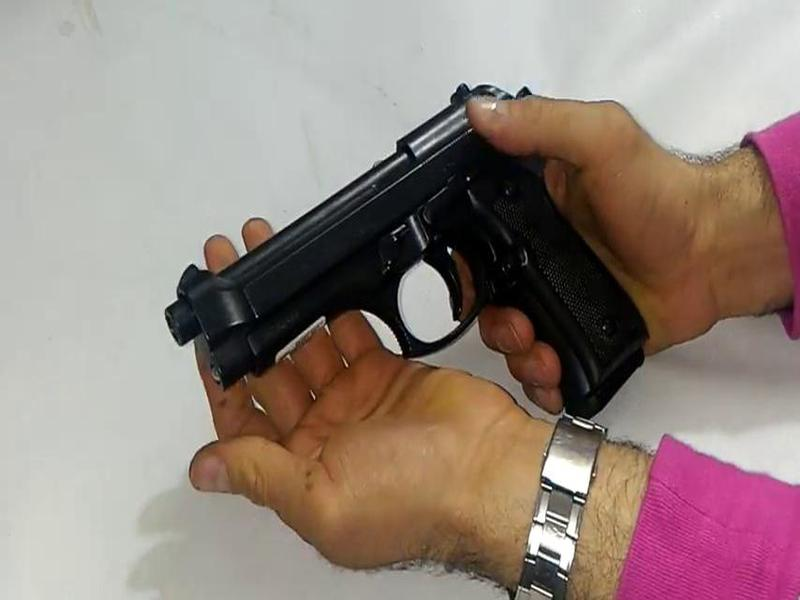Pistola: (156, 87, 632, 411)
